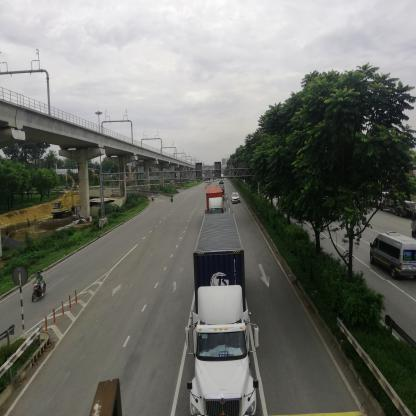car: (371, 231, 416, 282), (233, 194, 239, 205)
container: (188, 211, 262, 416), (207, 186, 226, 215)
motorbike: (32, 272, 46, 304), (171, 194, 176, 204), (152, 195, 155, 203)
